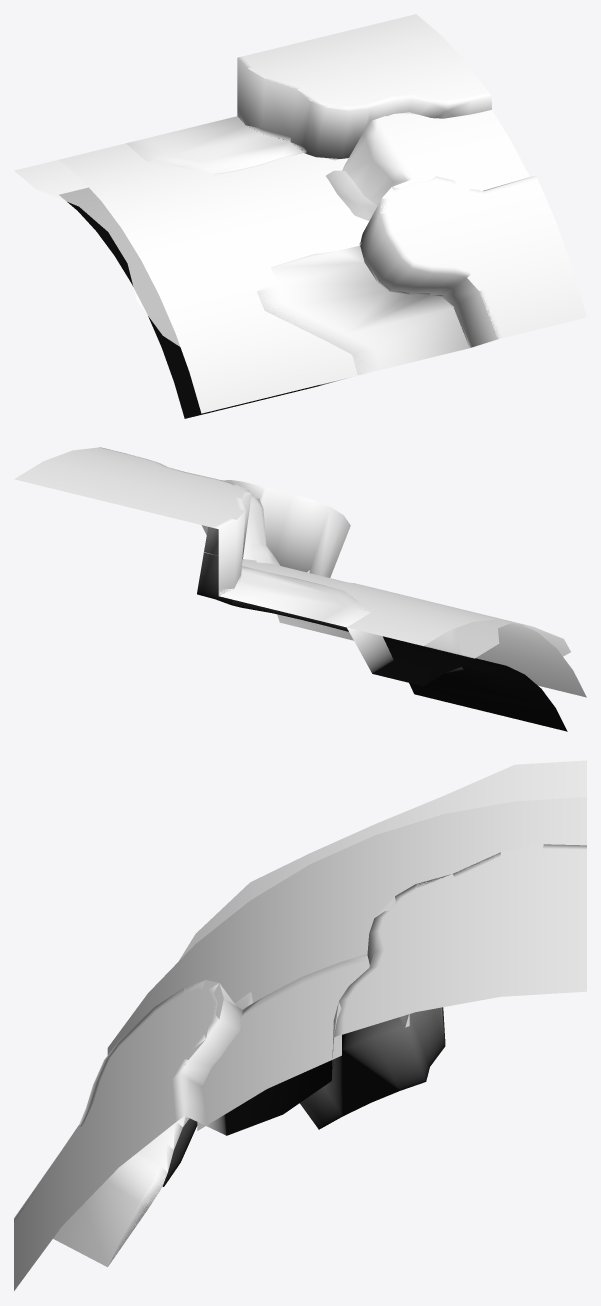
Rendered from grd_Msw_w_R_2.dae.
3 views of the same model, one above another, from view 1: azimuth 30°, elevation 25°; view 2: azimuth 150°, elevation 25°; view 3: azimuth 270°, elevation 25° (orthographic). The views are drawn at different scales.
Parts seen in each view (by area): view 1: grd_Msw_w_R_2; view 2: grd_Msw_w_R_2; view 3: grd_Msw_w_R_2.
Boxes of the visible parts, x1=… form: grd_Msw_w_R_2: x1=14, y1=14, x2=586, y2=418; grd_Msw_w_R_2: x1=14, y1=447, x2=586, y2=731; grd_Msw_w_R_2: x1=14, y1=760, x2=586, y2=1290.
Size of the model in its own units: 576 by 308 by 423.
10 materials, 1 textured.
